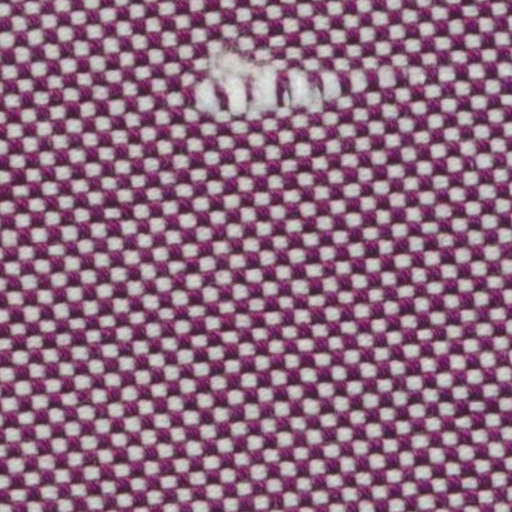DaiSha: (184, 34, 449, 134)
